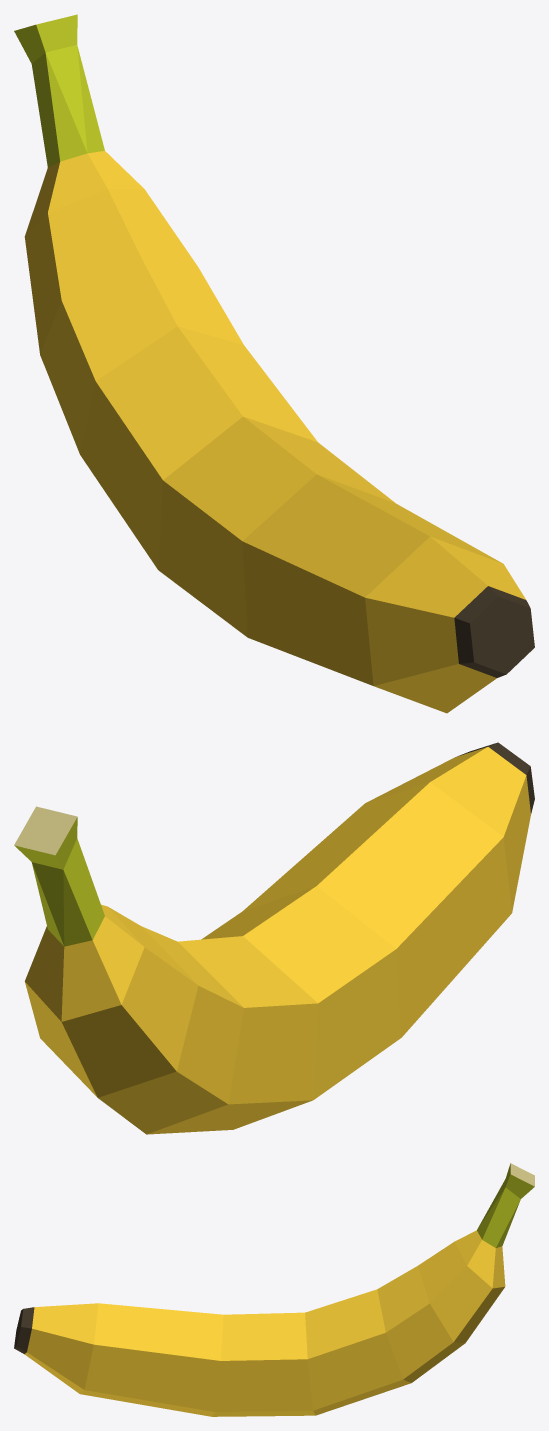
The model's file is Banana.obj.
3 views of the same model, one above another, from view 1: azimuth 30°, elevation 25°; view 2: azimuth 150°, elevation 25°; view 3: azimuth 270°, elevation 25° (orthographic). The views are drawn at different scales.
Visible parts, largest first — view 1: Banana_Base-Color; view 2: Banana_Base-Color; view 3: Banana_Base-Color.
Part boxes in pixels (x1,y1,x2,y2): Banana_Base-Color: (14,14,534,713); Banana_Base-Color: (14,742,534,1134); Banana_Base-Color: (14,1163,534,1416).
Size of the model in its own units: 0.0464 by 0.1285 by 0.2445.
Materials: 1 (1 with a texture image).
